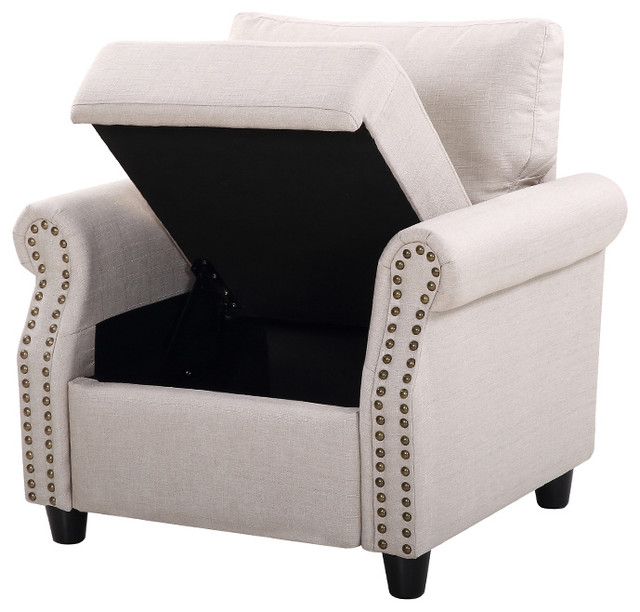chairs: (17, 8, 615, 601)
